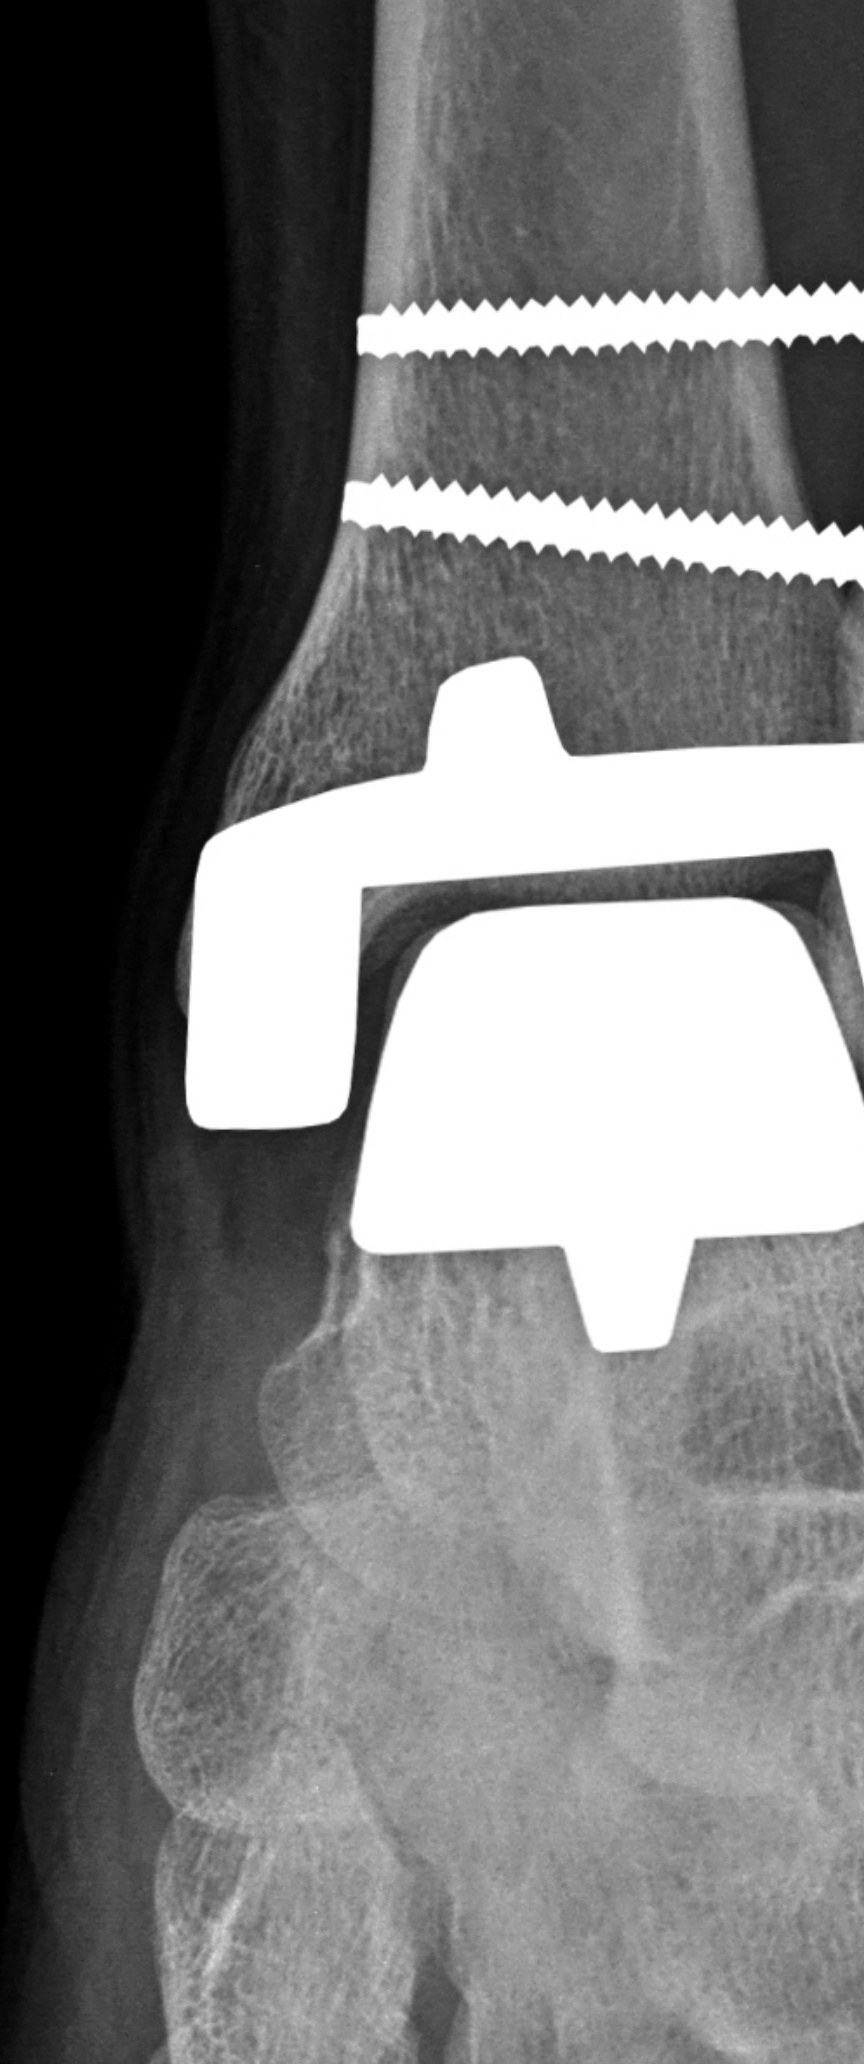Ankle - Agility - DePuy: (144, 269, 864, 1383)
